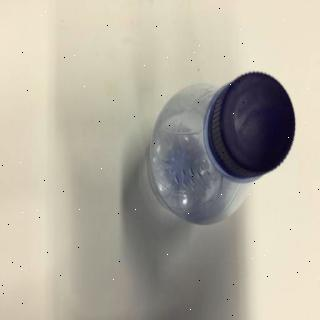Plastic-bottle: (147, 70, 297, 230)
